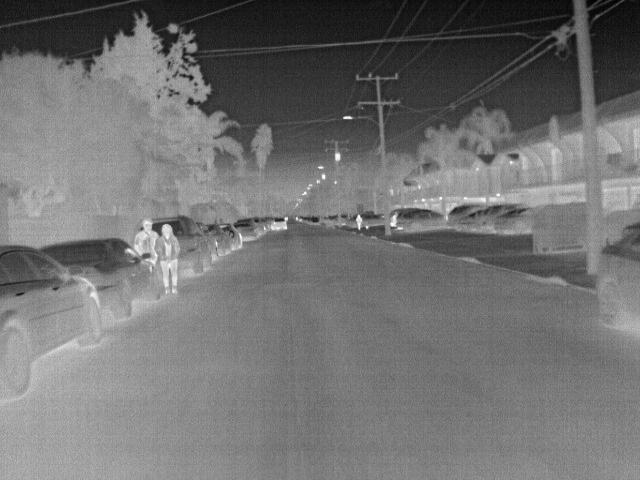car: (4, 248, 106, 401), (40, 238, 165, 319), (592, 222, 640, 330), (530, 201, 591, 251), (171, 216, 214, 272), (396, 206, 446, 234), (195, 222, 222, 262), (447, 201, 488, 226), (493, 207, 527, 236), (454, 209, 492, 234), (206, 225, 232, 257), (221, 222, 245, 250), (233, 220, 260, 241), (362, 212, 385, 230), (270, 214, 289, 230), (309, 215, 322, 226)
person: (154, 224, 182, 294), (135, 218, 161, 259), (353, 212, 366, 230)
